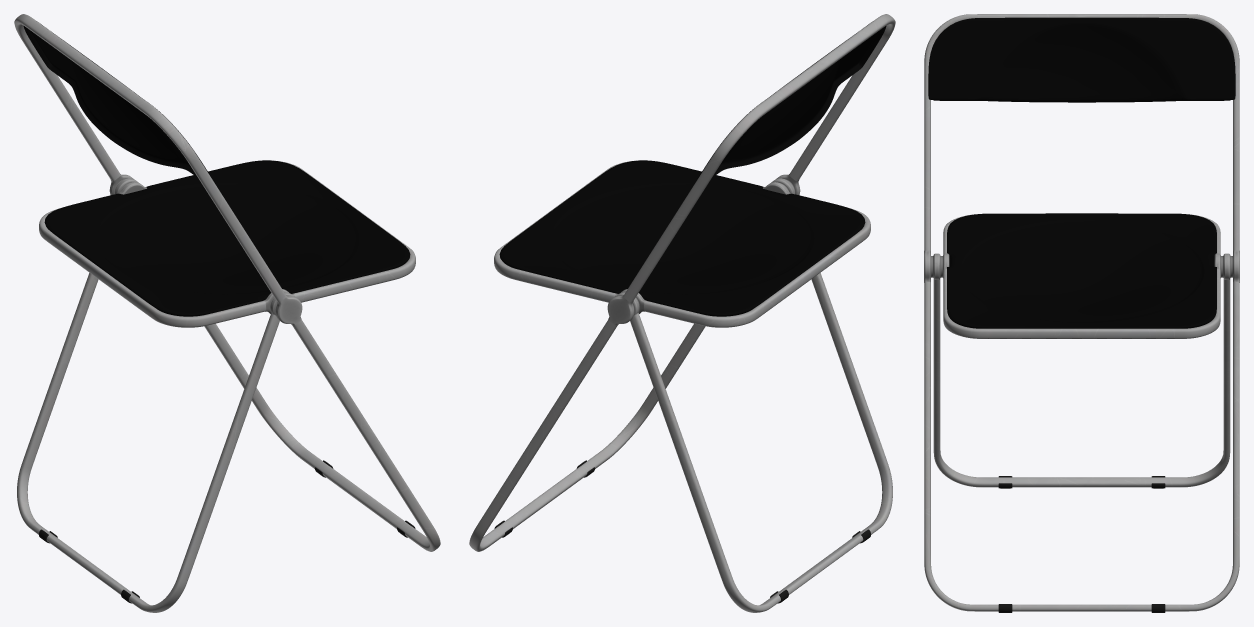
The model's file is plia_folding_chair.glb.
3 renders of one model, left to right at view 1: azimuth 30°, elevation 25°; view 2: azimuth 150°, elevation 25°; view 3: azimuth 270°, elevation 25°, orthographic. The views are drawn at different scales.
Visible parts, largest first — view 1: Plia-Folding-Chair-HighP; view 2: Plia-Folding-Chair-HighP; view 3: Plia-Folding-Chair-HighP.
Part boxes in pixels (left/top/right/bottom): Plia-Folding-Chair-HighP: left=14, top=14, right=440, bottom=612; Plia-Folding-Chair-HighP: left=469, top=14, right=895, bottom=612; Plia-Folding-Chair-HighP: left=924, top=14, right=1239, bottom=612.
Size of the model in its own units: 44.67 by 75.56 by 45.56.
4 materials, 4 textured.
